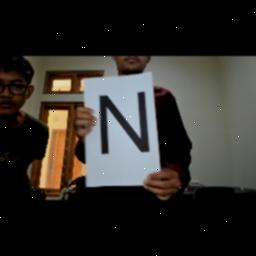n: (90, 86, 156, 166)
